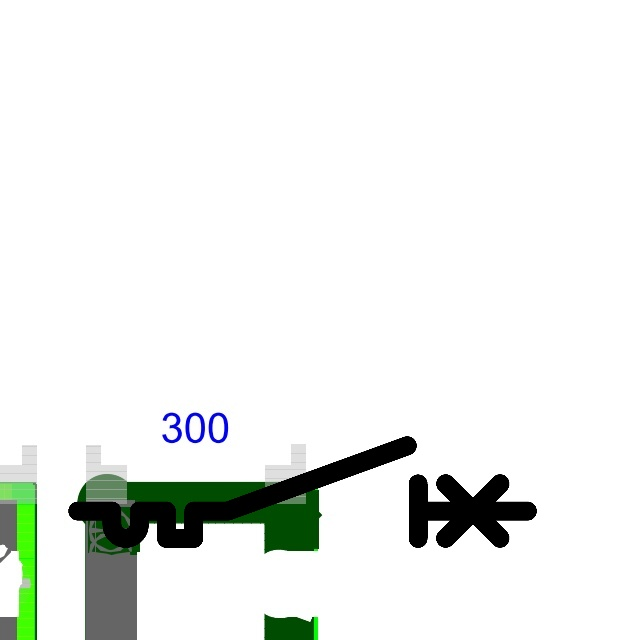interruptor_termomagnetico: (66, 434, 538, 550)
